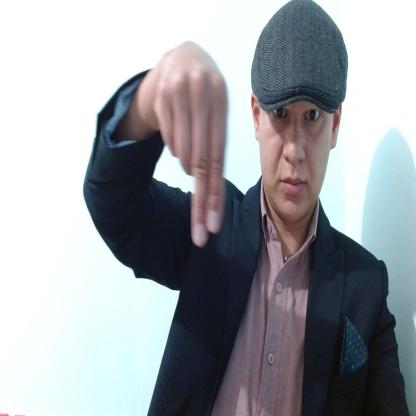N: (152, 42, 228, 245)
